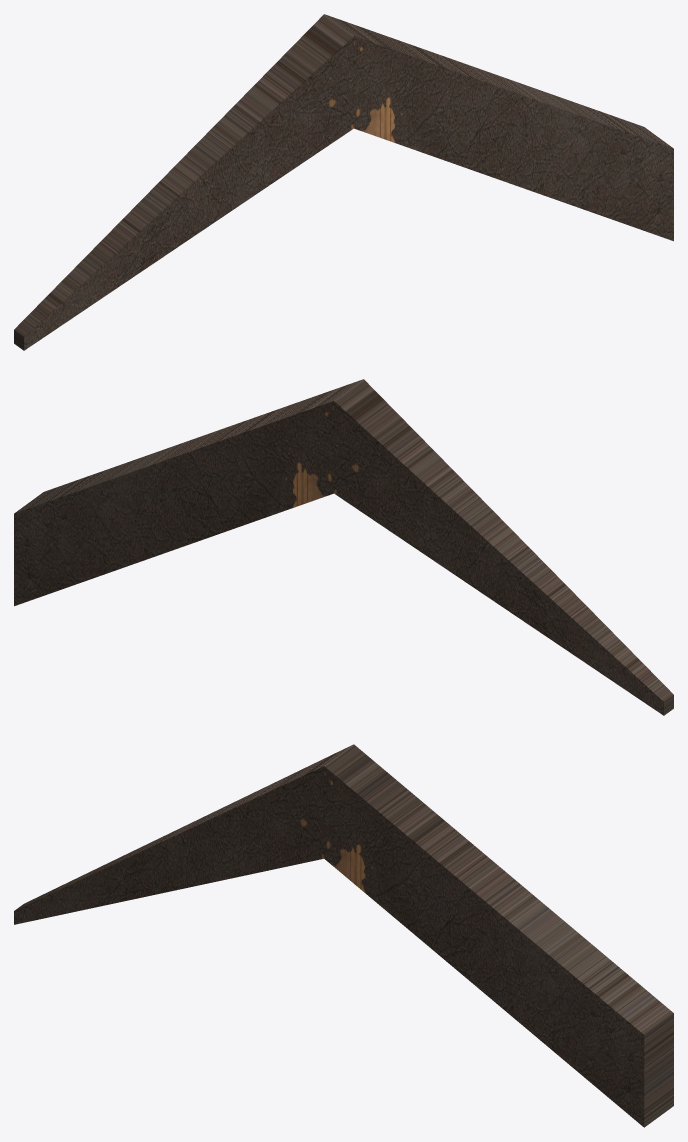
File: TorokTalkingAnim.fbx
The picture shows the model from 3 angles, top to bottom: view 1: azimuth 30°, elevation 25°; view 2: azimuth 150°, elevation 25°; view 3: azimuth 330°, elevation 25°; orthographic projection.
Visible parts, largest first — view 1: LeftEyebrow; view 2: LeftEyebrow; view 3: LeftEyebrow.
Boxes of the visible parts, x1,y1,x2,y2 form: LeftEyebrow: (14, 14, 673, 350); LeftEyebrow: (14, 379, 673, 715); LeftEyebrow: (14, 744, 673, 1127).
Size of the model in its own units: 6.75 by 2.86 by 0.5433.
